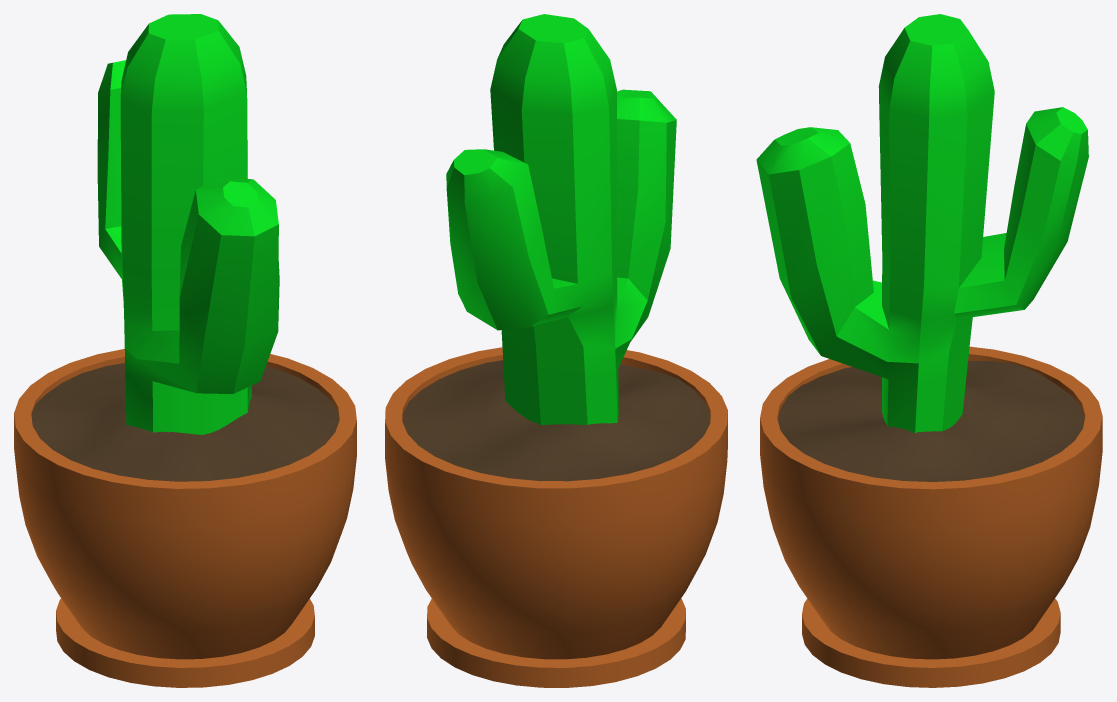
The model's file is catus.fbx.
The picture shows the model from 3 angles, left to right: view 1: azimuth 30°, elevation 25°; view 2: azimuth 150°, elevation 25°; view 3: azimuth 270°, elevation 25°; orthographic projection.
Parts seen in each view (by area): view 1: Circle.002, Cube.030, Circle.003; view 2: Cube.030, Circle.002, Circle.003; view 3: Cube.030, Circle.002, Circle.003.
Boxes of the visible parts, x1,y1,x2,y2 form: Circle.002: [14, 349, 356, 687]; Cube.030: [97, 14, 279, 434]; Circle.003: [31, 363, 338, 481]; Cube.030: [446, 14, 676, 424]; Circle.002: [385, 347, 727, 687]; Circle.003: [402, 360, 710, 481]; Cube.030: [756, 14, 1088, 433]; Circle.002: [760, 346, 1102, 687]; Circle.003: [778, 360, 1084, 481].
Bounding box in the file's own units: 21.13 × 41.08 × 21.35.
